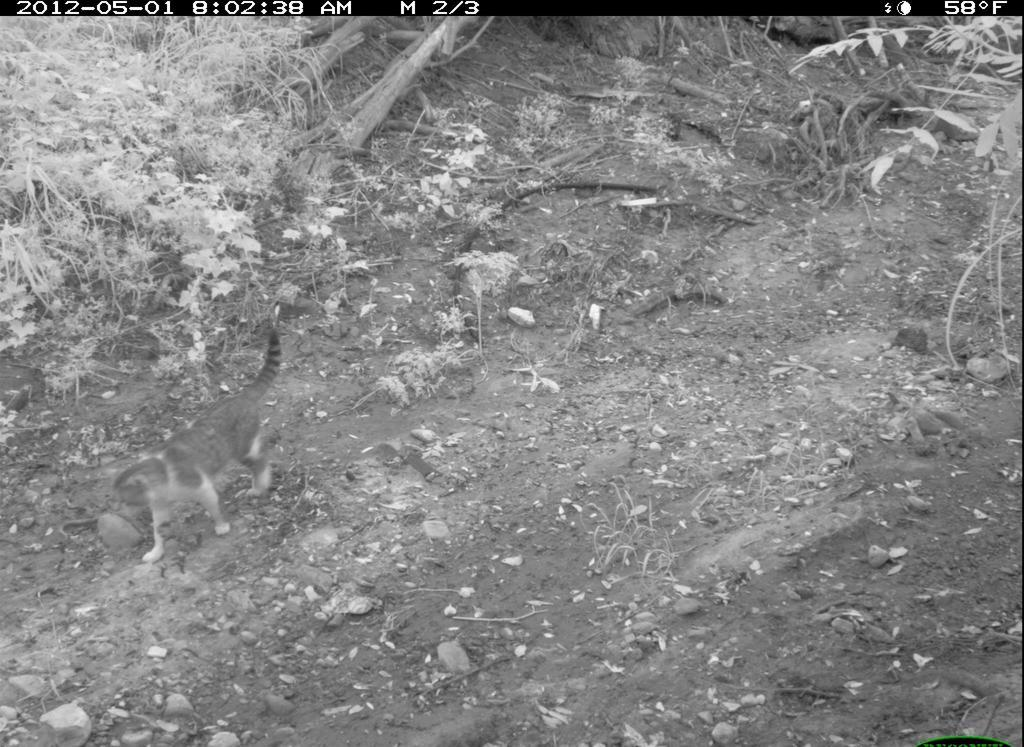cat: (104, 331, 312, 566)
